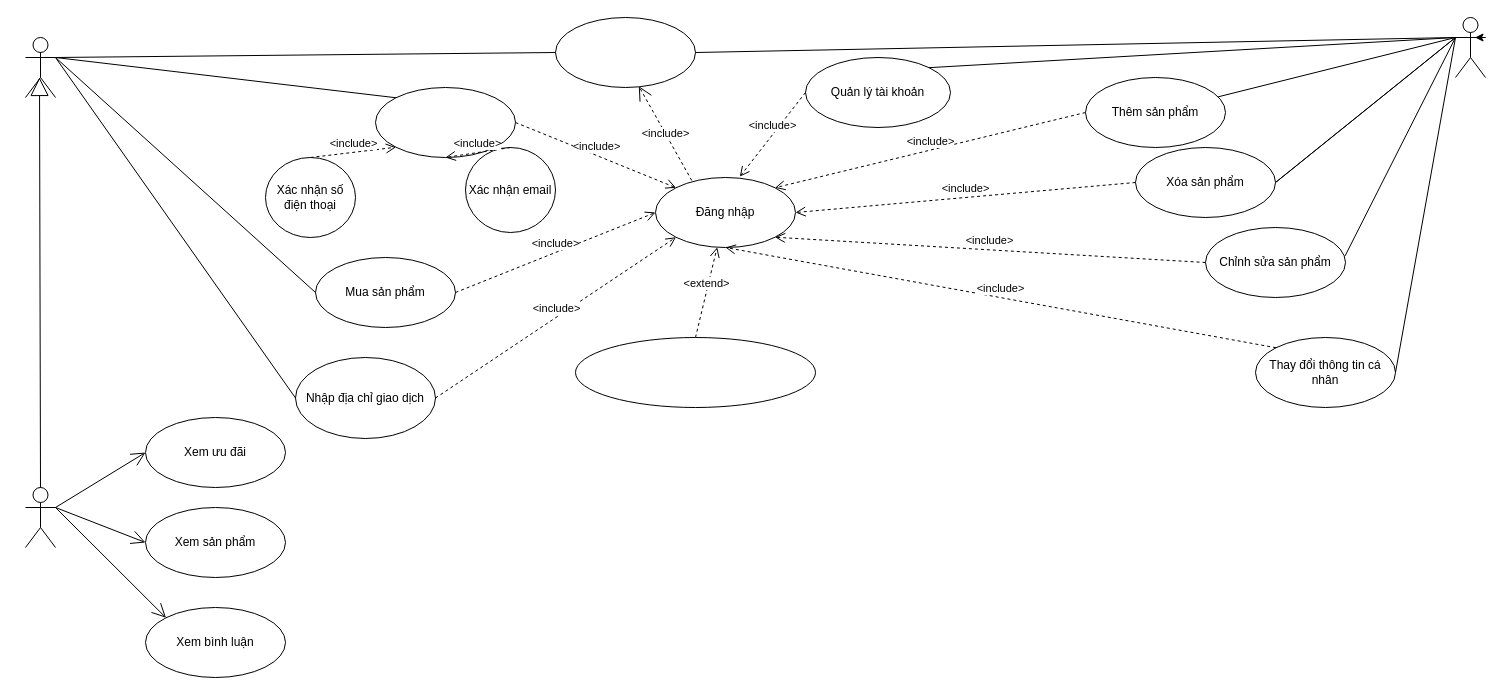
Some shapes in this 1511 by 695 pixel diagram are drawn without their labels. Here are the shapes that lost their labels. From the top down, the box of each, then its label:
(24, 36, 56, 98): USER
(554, 16, 696, 88): Đăng kí
(1454, 16, 1486, 78): ADMIN
(374, 86, 516, 158): Xác nhận thông tin
(574, 336, 816, 408): Kiểm tra tài khoản không hợp lệ
(24, 486, 56, 548): VIEWER
